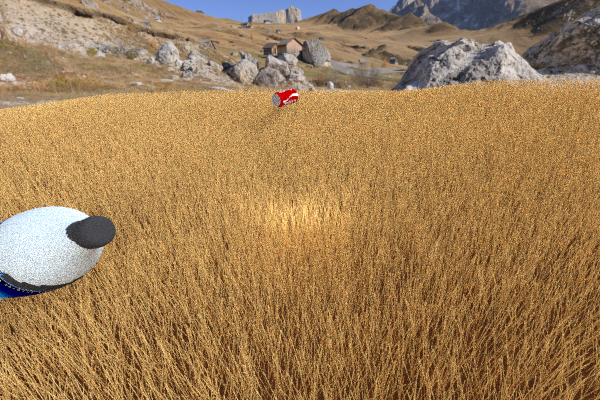Plastic Bottle: (0, 206, 115, 302), (169, 115, 212, 161), (271, 88, 298, 107)
